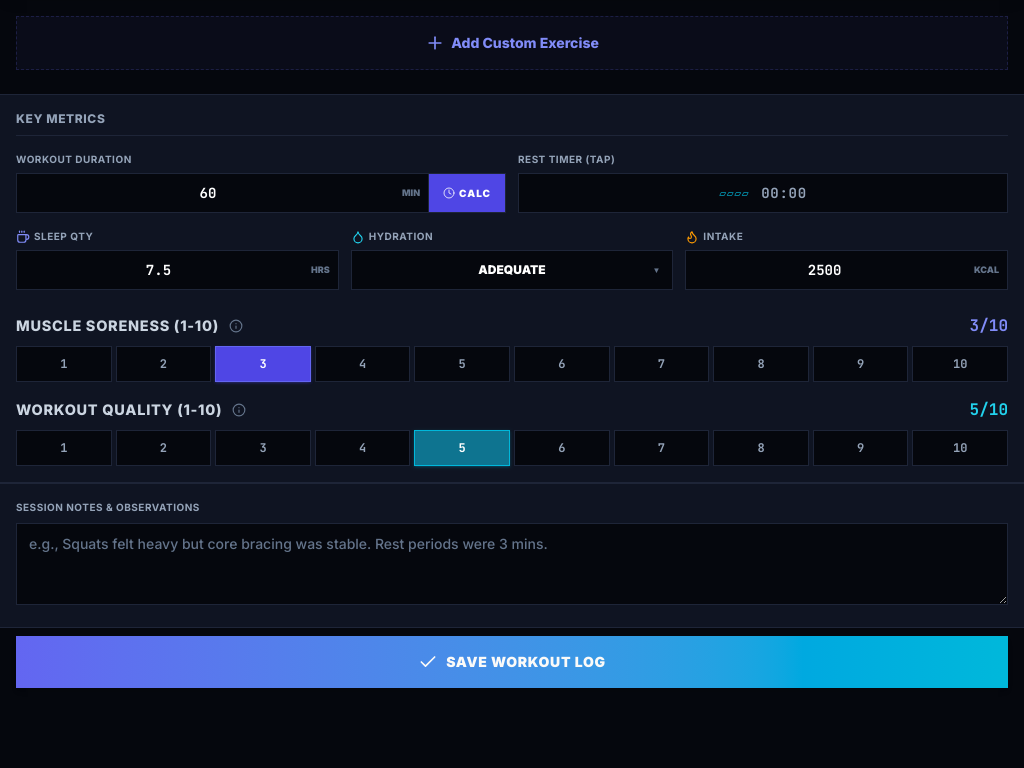
Scenario: WorkoutLogger Strength Main Movement Save Validation Regression › Scenario G: Strength with more than one eligible Main Movement displays the exactly-one warning
(page scrolled)
Click the button "Save Workout Log".
click(512, 662)  # box [16,636,1008,688]
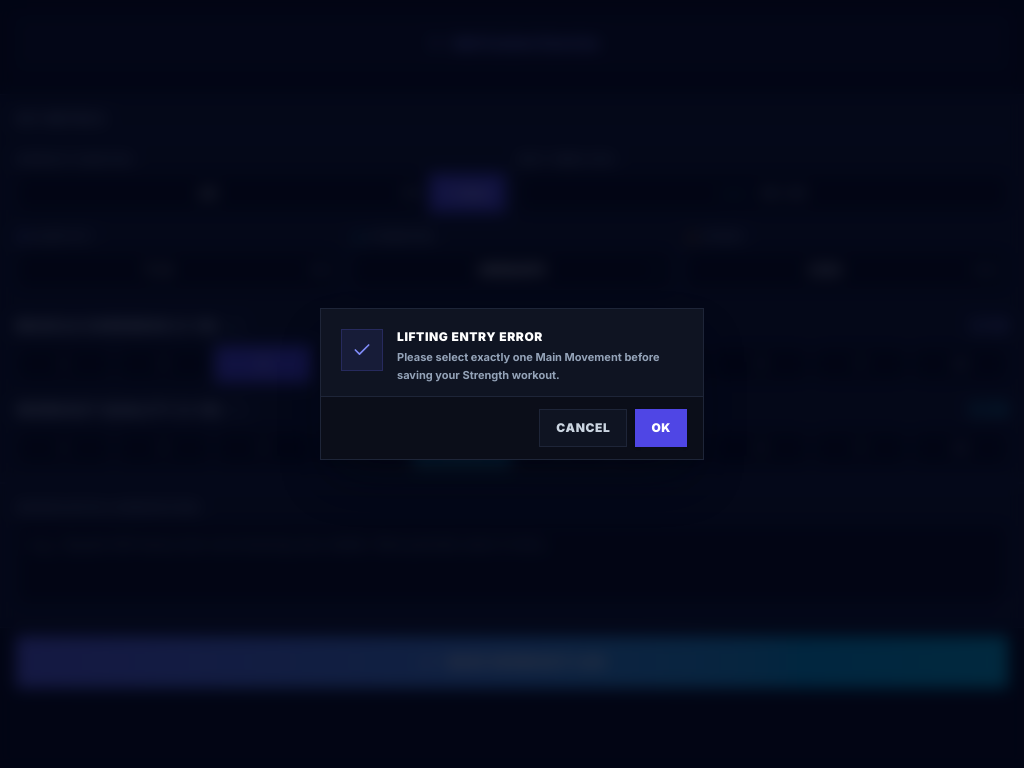
Now the text "Please select exactly one Main Movement before saving your Strength workout." is shown, box [397,349,683,384]
